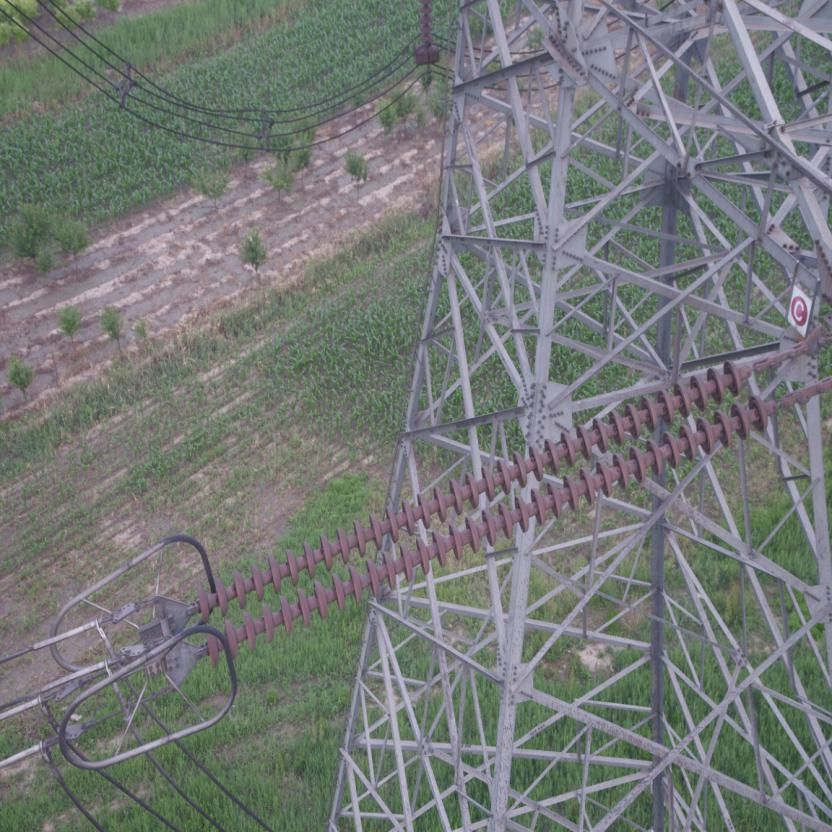insulator: (185, 349, 815, 677)
